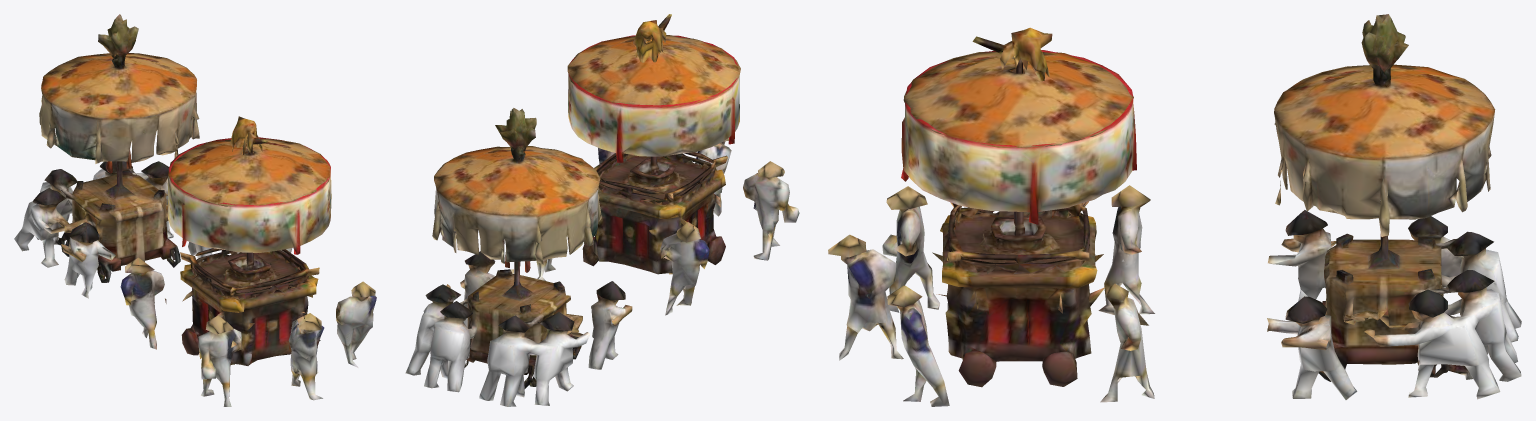
The model's file is 綾傘鉾.glb.
3 renders of one model, left to right at view 1: azimuth 30°, elevation 25°; view 2: azimuth 150°, elevation 25°; view 3: azimuth 270°, elevation 25°, orthographic. The views are drawn at different scales.
Parts seen in each view (by area): view 1: Mesh1.001, Mesh1.0, Mesh1.002; view 2: Mesh1.001, Mesh1.0, Mesh1.002; view 3: Mesh1.001, Mesh1.0, Mesh1.002.
Part boxes in pixels (x1,y1,x2,y2): Mesh1.001: (14,14,212,298); Mesh1.0: (120,116,376,406); Mesh1.002: (168,138,330,206); Mesh1.001: (405,108,632,406); Mesh1.0: (536,14,799,315); Mesh1.002: (567,35,740,107); Mesh1.001: (1267,14,1521,399); Mesh1.0: (828,27,1154,406); Mesh1.002: (903,51,1133,147).
Size of the model in its own units: 4.04 by 5.2 by 9.51.
Materials: 2 (2 with a texture image).
